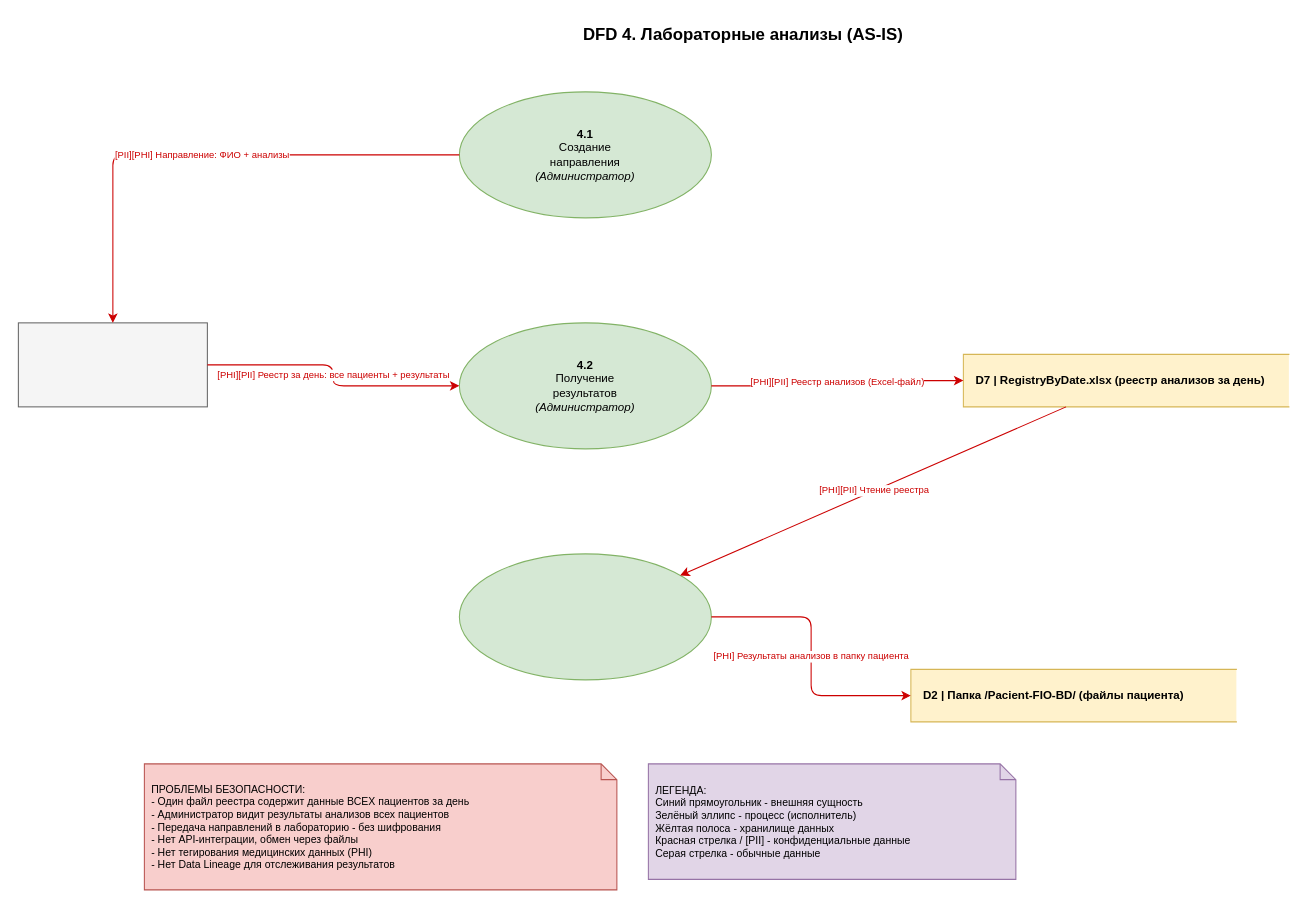
Some shapes in this 1307 by 908 pixel diagram are drawn without their labels. Here are the shapes that lost their labels. From the top down, the centre of each, then its label:
point 112,364: Лаборатория (внешняя система)
point 584,616: 4.3 Раскладка по папкам пациентов (Администратор)
